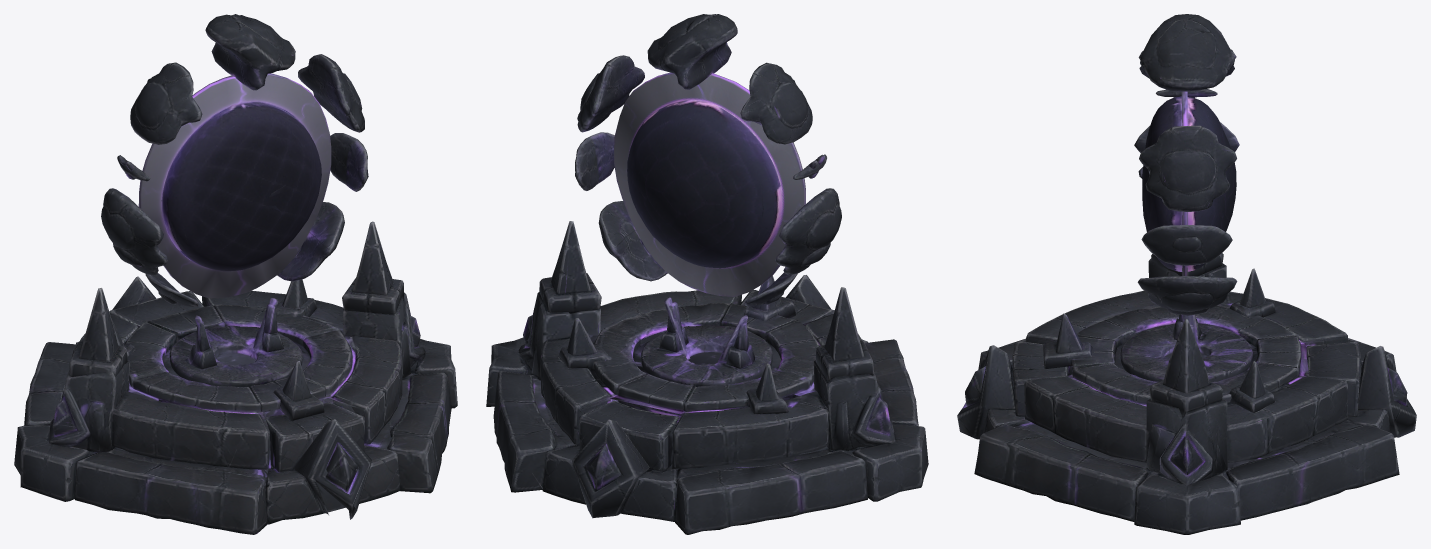
Rendered from core_void_nexus.glb.
3 views of the same model, side by side, from view 1: azimuth 30°, elevation 25°; view 2: azimuth 150°, elevation 25°; view 3: azimuth 270°, elevation 25° (orthographic).
Visible parts, largest first — view 1: mesh_node; view 2: mesh_node; view 3: mesh_node.
Boxes of the visible parts, x1,y1,x2,y2 form: mesh_node: (14, 14, 457, 534); mesh_node: (486, 14, 928, 534); mesh_node: (957, 14, 1416, 534).
Size of the model in its own units: 1 by 0.9316 by 0.9375.
1 material, 1 textured.
